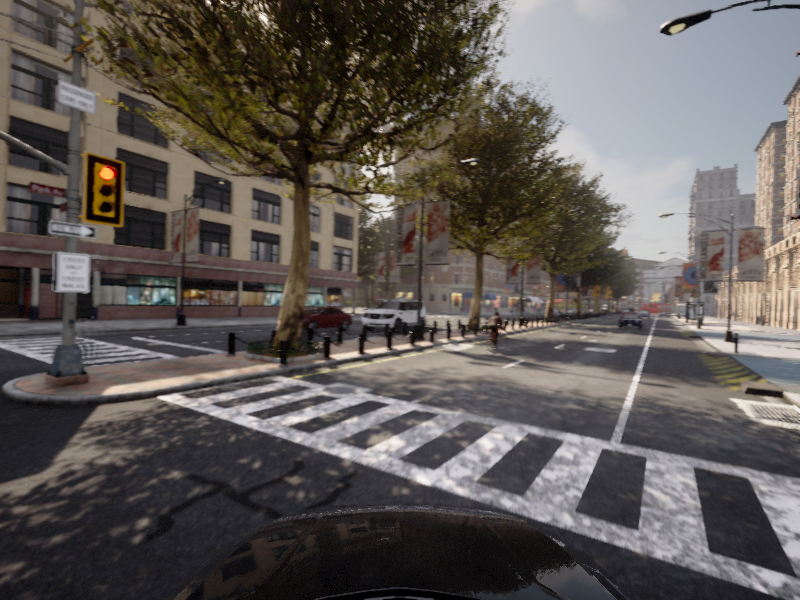vehicle: (357, 297, 431, 334), (280, 305, 357, 333), (480, 311, 508, 353), (618, 313, 643, 329)
